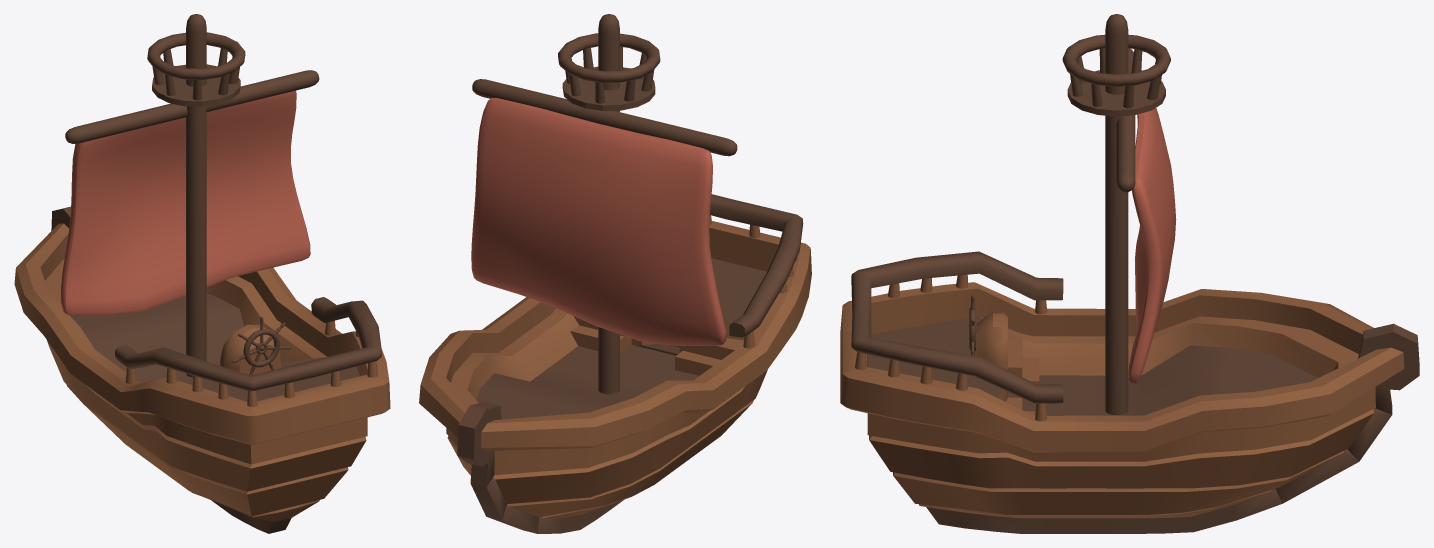
File: Ship_01.fbx
The picture shows the model from 3 angles, left to right: view 1: azimuth 30°, elevation 25°; view 2: azimuth 150°, elevation 25°; view 3: azimuth 270°, elevation 25°; orthographic projection. The views are drawn at different scales.
Visible parts, largest first — view 1: Cylinder.001, Circle.006; view 2: Cylinder.001; view 3: Cylinder.001.
Part boxes in pixels (box(x1,y1,x2,y2)): Cylinder.001: box(14, 14, 390, 533); Circle.006: box(232, 316, 290, 375); Cylinder.001: box(419, 14, 811, 533); Cylinder.001: box(840, 14, 1419, 533).
Bounding box in the file's own units: 2.7 × 4.79 × 4.89.
